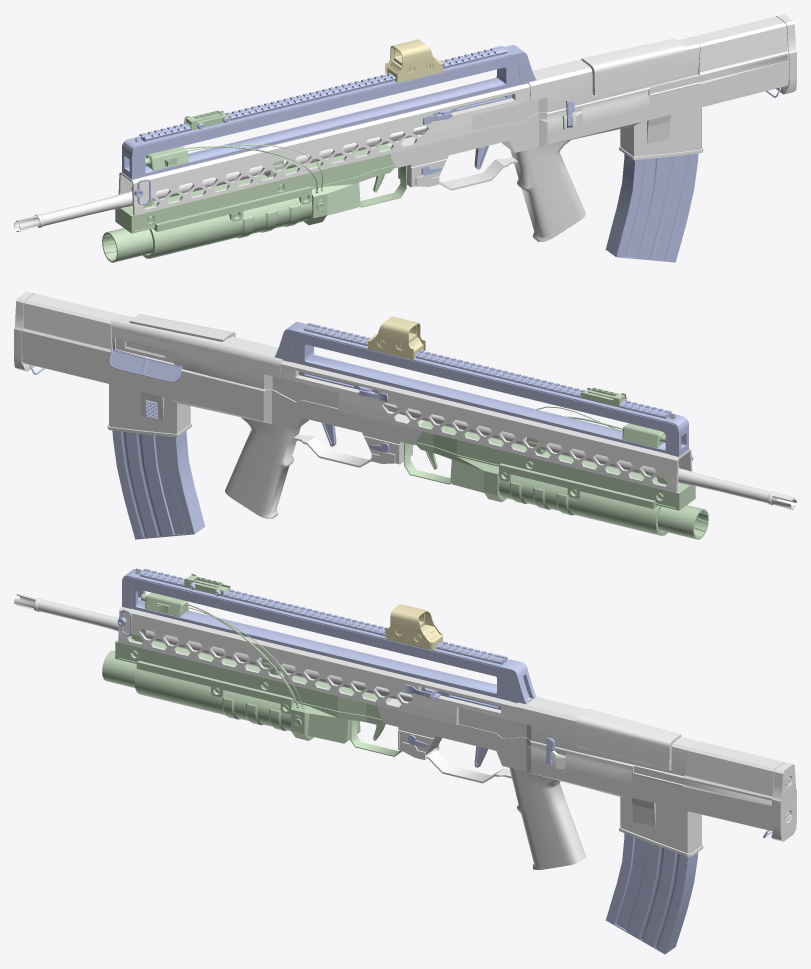
Rendered from rifle.glb.
The picture shows the model from 3 angles, top to bottom: view 1: azimuth 30°, elevation 25°; view 2: azimuth 150°, elevation 25°; view 3: azimuth 330°, elevation 25°; orthographic projection.
Visible parts, largest first — view 1: Main, Attatch, GL, Sight; view 2: Main, Attatch, GL, Sight; view 3: Main, Attatch, GL, Sight.
Boxes of the visible parts, bbox=[...] form: Main: bbox=[14, 14, 796, 241]; Attatch: bbox=[122, 45, 781, 262]; GL: bbox=[102, 110, 406, 262]; Sight: bbox=[385, 39, 442, 82]; Main: bbox=[14, 291, 796, 519]; Attatch: bbox=[29, 322, 693, 539]; GL: bbox=[404, 387, 708, 539]; Sight: bbox=[368, 316, 425, 359]; Main: bbox=[14, 594, 796, 869]; Attatch: bbox=[117, 568, 772, 954]; GL: bbox=[102, 574, 401, 756]; Sight: bbox=[385, 604, 442, 650].
Bounding box in the file's own units: 5.38 × 1.85 × 0.3232.
